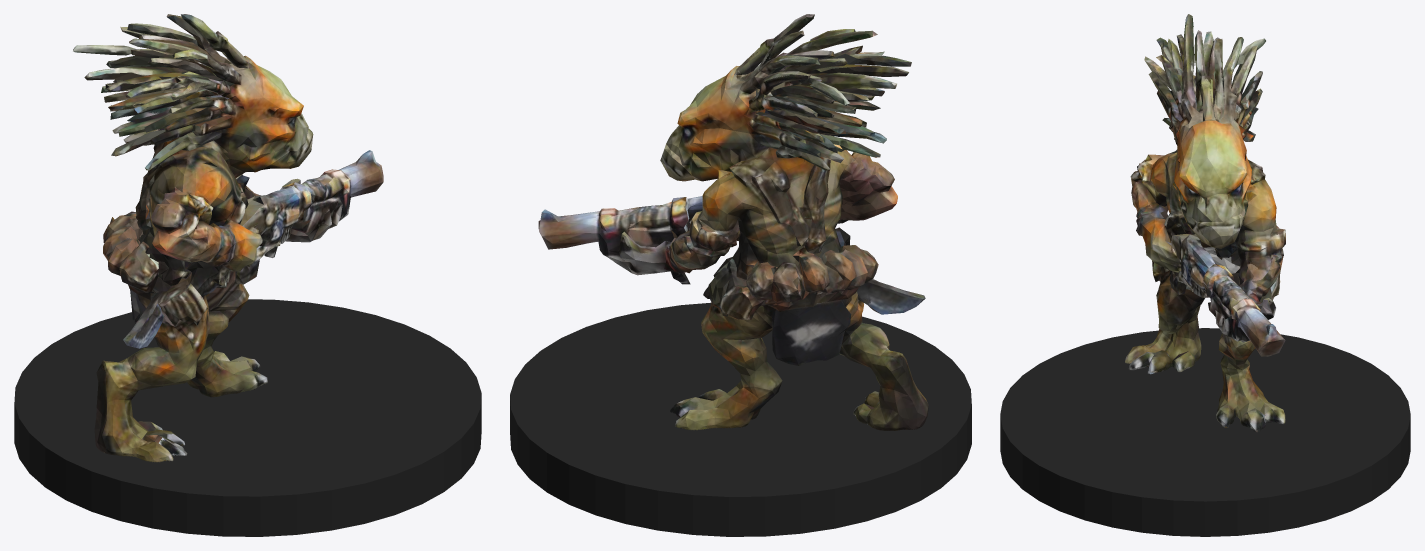
Rendered from fk-warrior-kroot-scattergun.glb.
3 views of the same model, side by side, from view 1: azimuth 30°, elevation 25°; view 2: azimuth 150°, elevation 25°; view 3: azimuth 270°, elevation 25° (orthographic). The views are drawn at different scales.
Visible parts, largest first — view 1: base, figure; view 2: figure, base; view 3: base, figure.
Boxes of the visible parts, x1,y1,x2,y2 form: base: (14,299,481,536); figure: (73,14,383,462); figure: (538,14,928,430); base: (510,302,971,536); base: (1000,328,1410,536); figure: (1125,14,1285,432).
Size of the model in its own units: 1.26 by 1.32 by 1.26.
Materials: 2 (1 with a texture image).
